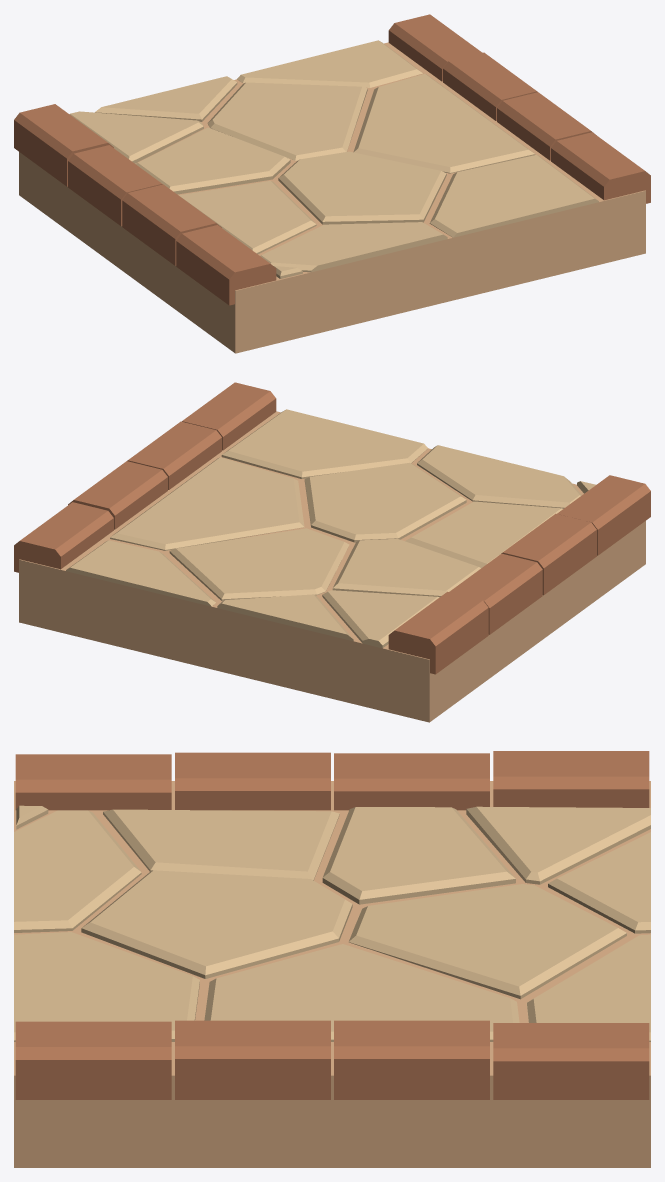
Rendered from terrace_path_narrow.fbx.
3 renders of one model, top to bottom at view 1: azimuth 30°, elevation 25°; view 2: azimuth 150°, elevation 25°; view 3: azimuth 270°, elevation 25°, orthographic. The views are drawn at different scales.
Visible parts, largest first — view 1: Terrace_Path_Narrow; view 2: Terrace_Path_Narrow; view 3: Terrace_Path_Narrow.
Boxes of the visible parts, x1,y1,x2,y2 form: Terrace_Path_Narrow: [14, 14, 650, 353]; Terrace_Path_Narrow: [14, 382, 650, 722]; Terrace_Path_Narrow: [14, 751, 650, 1167].
Size of the model in its own units: 225 by 42.33 by 200.
